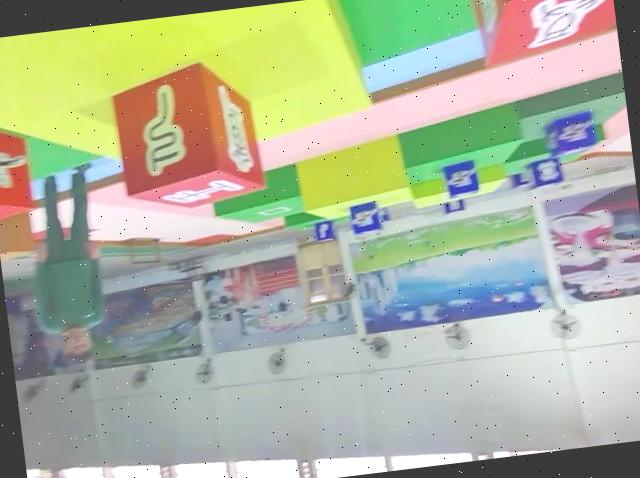R1: (0, 113, 35, 228)
R2 Fake: (103, 55, 273, 222)
R2 Real: (452, 0, 620, 79)
